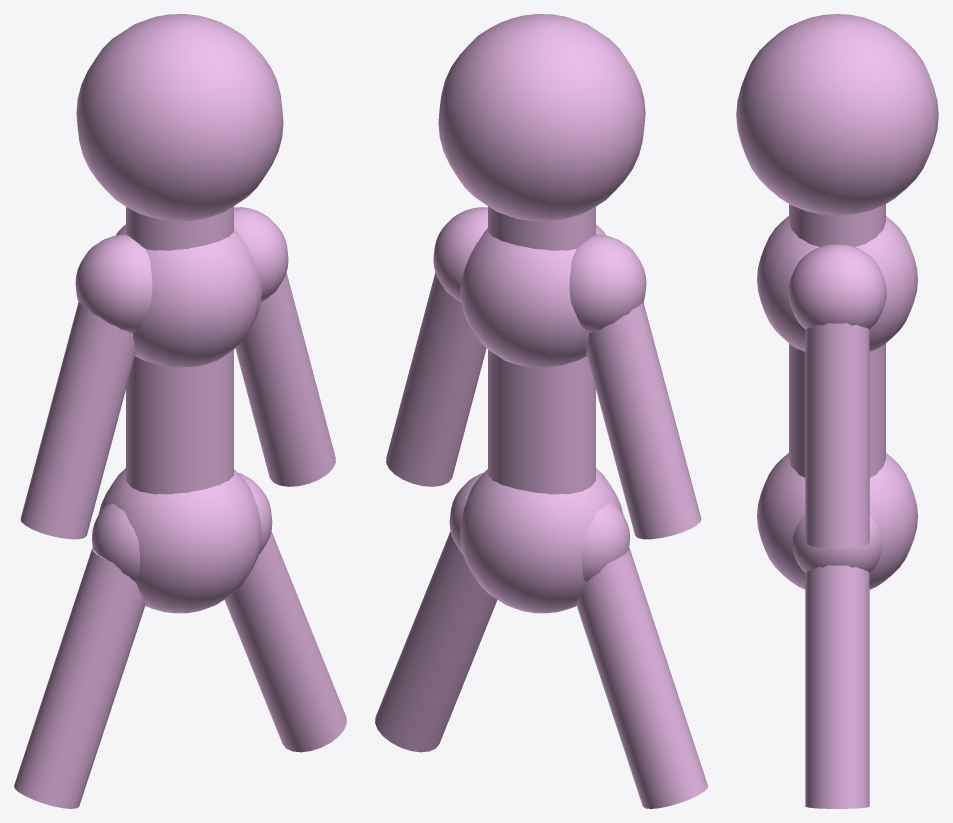
Rendered from Mouse.fbx.
The picture shows the model from 3 angles, left to right: view 1: azimuth 30°, elevation 25°; view 2: azimuth 150°, elevation 25°; view 3: azimuth 270°, elevation 25°; orthographic projection. The views are drawn at different scales.
Visible parts, largest first — view 1: pasted__pSphere1, pasted__pCylinder1, pasted__pCylinder4, pasted__pCylinder3, pasted__pSphere6, pasted__pCylinder5, pasted__pSphere7, pasted__pCylinder2, pasted__pSphere3, pasted__pSphere2, pasted__pSphere5, pasted__pSphere4; view 2: pasted__pSphere1, pasted__pCylinder1, pasted__pCylinder4, pasted__pCylinder3, pasted__pSphere6, pasted__pCylinder5, pasted__pSphere7, pasted__pCylinder2, pasted__pSphere3, pasted__pSphere2, pasted__pSphere5, pasted__pSphere4; view 3: pasted__pSphere1, pasted__pCylinder5, pasted__pCylinder2, pasted__pSphere6, pasted__pSphere7, pasted__pCylinder1, pasted__pSphere2, pasted__pSphere4.
Boxes of the visible parts, left/top/right/bottom form: pasted__pSphere1: left=76, top=14, right=283, bottom=221; pasted__pCylinder1: left=126, top=206, right=233, bottom=494; pasted__pCylinder4: left=14, top=548, right=145, bottom=808; pasted__pCylinder3: left=20, top=302, right=135, bottom=539; pasted__pSphere6: left=98, top=468, right=261, bottom=613; pasted__pCylinder5: left=224, top=531, right=346, bottom=752; pasted__pSphere7: left=115, top=224, right=261, bottom=367; pasted__pCylinder2: left=235, top=272, right=335, bottom=486; pasted__pSphere3: left=75, top=234, right=152, bottom=332; pasted__pSphere2: left=234, top=207, right=288, bottom=301; pasted__pSphere5: left=92, top=504, right=139, bottom=581; pasted__pSphere4: left=238, top=472, right=272, bottom=554; pasted__pSphere1: left=438, top=14, right=645, bottom=221; pasted__pCylinder1: left=488, top=206, right=595, bottom=494; pasted__pCylinder4: left=576, top=548, right=707, bottom=808; pasted__pCylinder3: left=586, top=302, right=701, bottom=539; pasted__pSphere6: left=460, top=468, right=623, bottom=613; pasted__pCylinder5: left=375, top=531, right=497, bottom=752; pasted__pSphere7: left=460, top=224, right=606, bottom=367; pasted__pCylinder2: left=386, top=272, right=486, bottom=486; pasted__pSphere3: left=569, top=234, right=646, bottom=332; pasted__pSphere2: left=433, top=207, right=487, bottom=301; pasted__pSphere5: left=582, top=504, right=629, bottom=581; pasted__pSphere4: left=449, top=472, right=483, bottom=554; pasted__pSphere1: left=736, top=14, right=938, bottom=215; pasted__pCylinder5: left=805, top=565, right=869, bottom=808; pasted__pCylinder2: left=805, top=323, right=869, bottom=548; pasted__pSphere6: left=757, top=453, right=917, bottom=589; pasted__pSphere7: left=757, top=216, right=917, bottom=351; pasted__pCylinder1: left=789, top=204, right=885, bottom=477; pasted__pSphere2: left=788, top=244, right=886, bottom=328; pasted__pSphere4: left=792, top=515, right=882, bottom=572.
Bounding box in the file's own units: 3.6 × 7.96 × 2.
